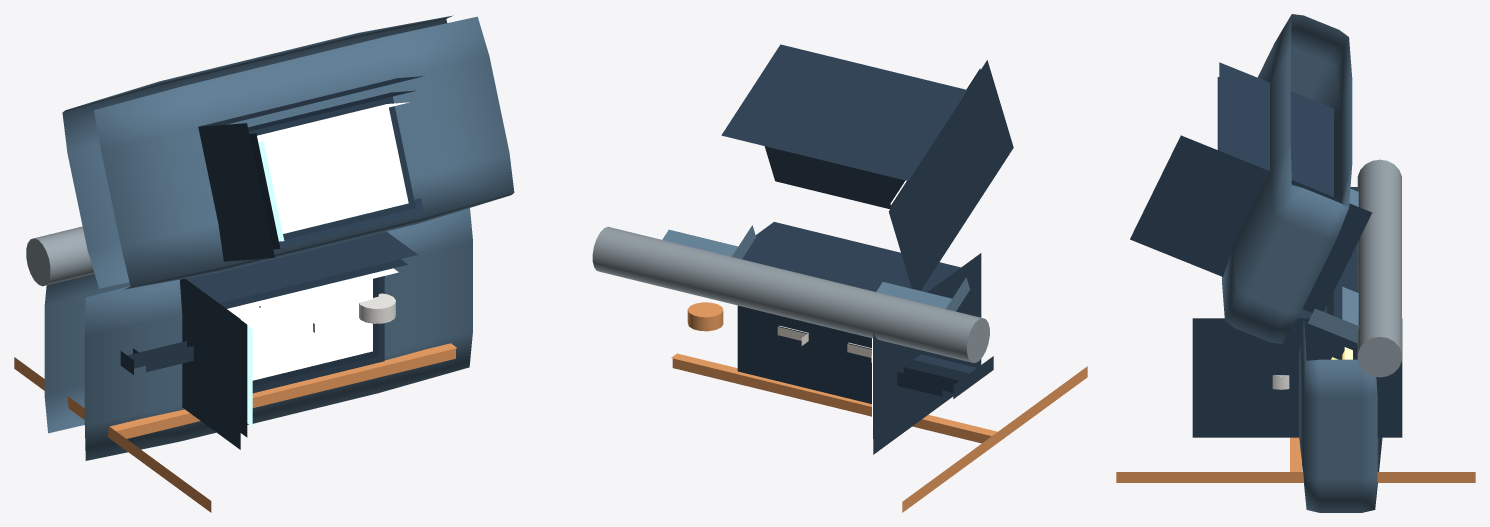
Rendered from model-handheld-04.glb.
3 renders of one model, left to right at view 1: azimuth 30°, elevation 25°; view 2: azimuth 150°, elevation 25°; view 3: azimuth 270°, elevation 25°, orthographic. The views are drawn at different scales.
Visible parts, largest first — view 1: 上机身, 下机身, 下屏边框, 上屏辉光, 下屏辉光, 上屏边框, 正面饰条, 上屏玻璃, 下屏玻璃, 转轴, 十字键, 按键B; view 2: 上屏边框, 下屏边框, 转轴, 正面饰条, 十字键, 肩键右, 肩键左, 按键A; view 3: 上机身, 上屏边框, 下屏边框, 下机身, 转轴, 正面饰条, 肩键右.
Boxes of the visible parts, x1,y1,x2,y2 form: 上机身: (62, 15, 514, 289); 下机身: (44, 208, 472, 460); 下屏边框: (180, 231, 417, 449); 上屏辉光: (257, 102, 409, 241); 下屏辉光: (227, 268, 398, 426); 上屏边框: (198, 76, 424, 261); 正面饰条: (14, 343, 456, 512); 上屏玻璃: (248, 90, 415, 249); 下屏玻璃: (219, 259, 407, 437); 转轴: (26, 226, 94, 286); 十字键: (120, 341, 193, 374); 按键B: (359, 293, 395, 323); 上屏边框: (721, 44, 1013, 290); 下屏边框: (737, 222, 981, 454); 转轴: (592, 226, 989, 363); 正面饰条: (671, 353, 1087, 512); 十字键: (897, 354, 993, 398); 肩键右: (662, 225, 756, 259); 肩键左: (876, 277, 969, 311); 按键A: (687, 302, 723, 331); 上机身: (1222, 14, 1352, 343); 上屏边框: (1130, 62, 1372, 312); 下屏边框: (1192, 243, 1402, 437); 下机身: (1299, 187, 1382, 512); 转轴: (1357, 159, 1401, 377); 正面饰条: (1116, 437, 1475, 482); 肩键右: (1308, 286, 1359, 343).
Bounding box in the file's own units: 0.14 × 0.1254 × 0.12.
